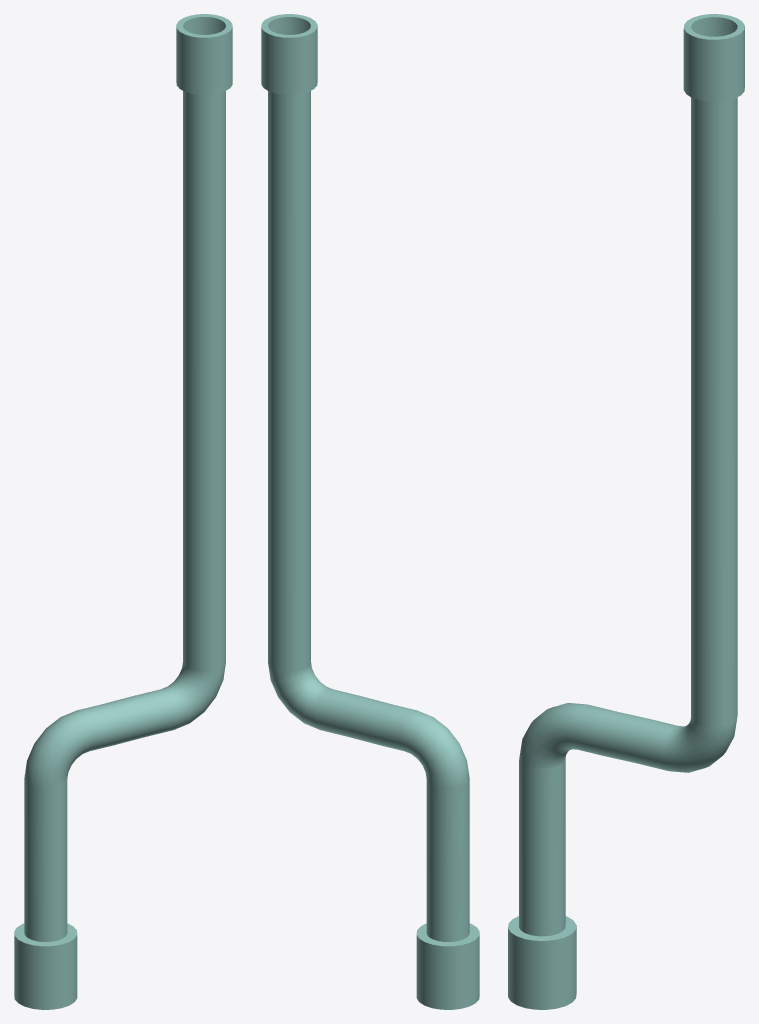
Rendered from Pipe_Vertical_Curved_7.fbx.
3 views of the same model, side by side, from view 1: azimuth 30°, elevation 25°; view 2: azimuth 150°, elevation 25°; view 3: azimuth 330°, elevation 25° (orthographic). The views are drawn at different scales.
Parts seen in each view (by area): view 1: Pipe_Vertical_Curved_7; view 2: Pipe_Vertical_Curved_7; view 3: Pipe_Vertical_Curved_7.
Boxes of the visible parts, left/top/right/bottom form: Pipe_Vertical_Curved_7: left=14, top=14, right=232, bottom=1009; Pipe_Vertical_Curved_7: left=261, top=14, right=479, bottom=1009; Pipe_Vertical_Curved_7: left=508, top=14, right=744, bottom=1009.
Bounding box in the file's own units: 72.28 × 305 × 18.87.
